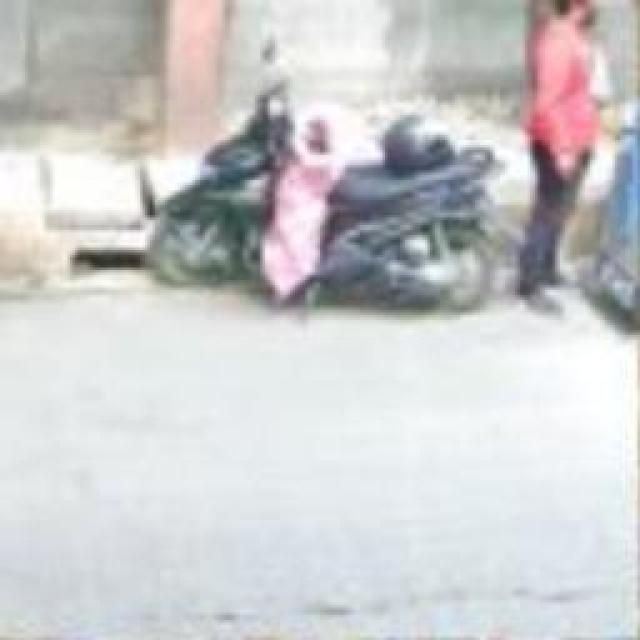motorbike: (122, 65, 505, 333)
